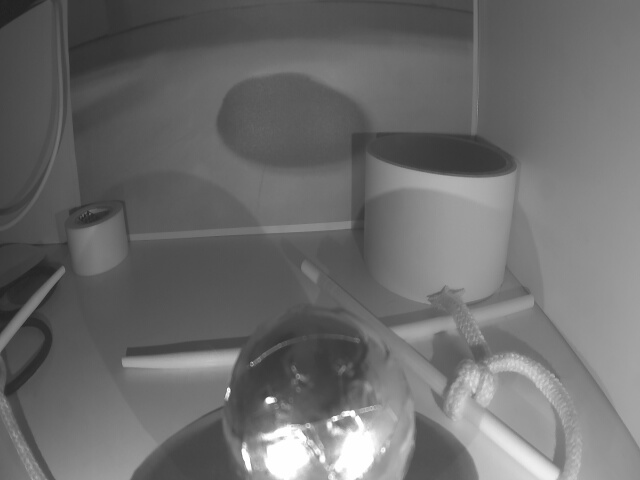Live: (222, 305, 418, 480)
